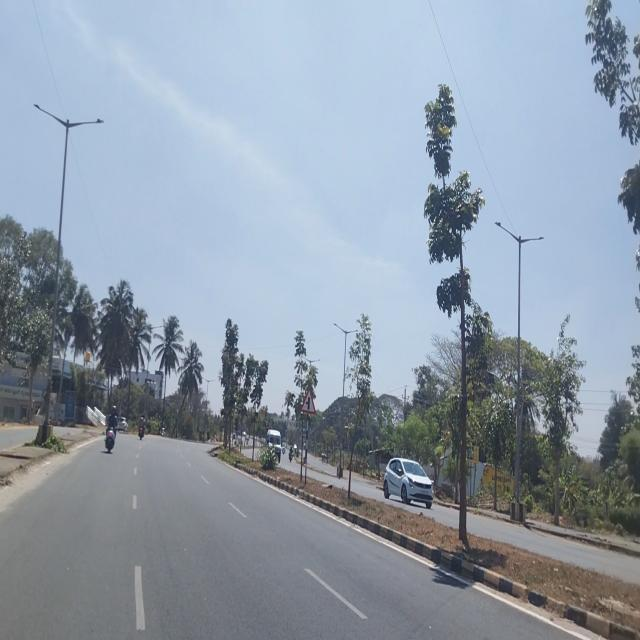bien_cam: (300, 387, 318, 412)
